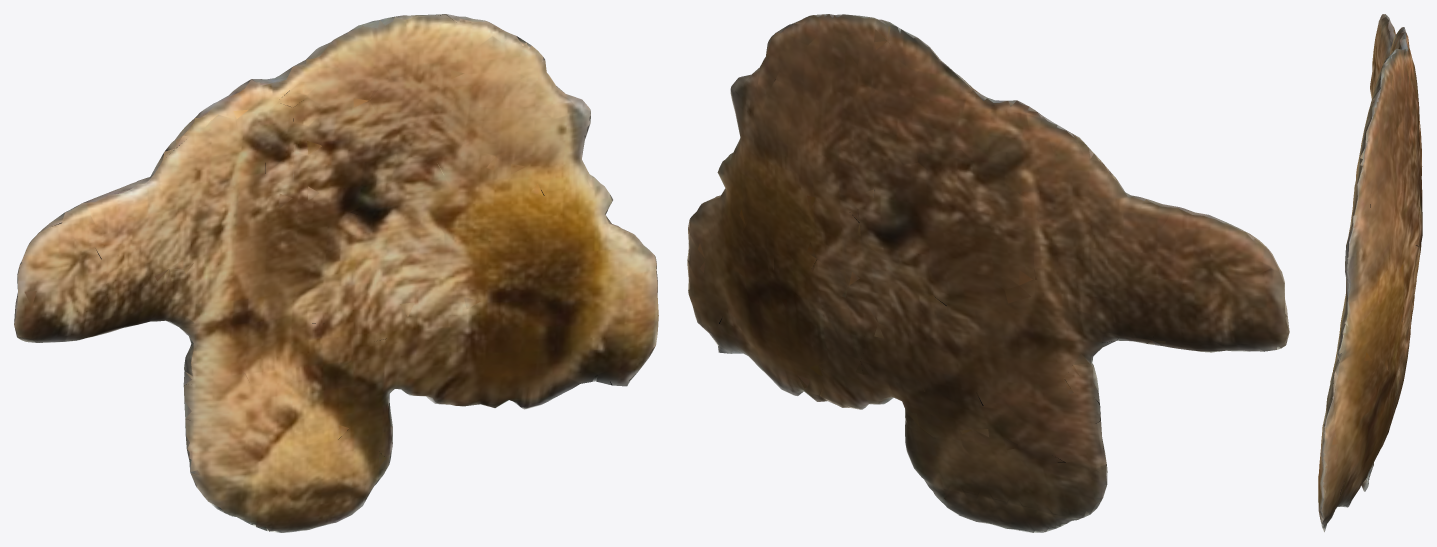
Rendered from bubby.glb.
3 renders of one model, left to right at view 1: azimuth 30°, elevation 25°; view 2: azimuth 150°, elevation 25°; view 3: azimuth 270°, elevation 25°, orthographic. The views are drawn at different scales.
Parts seen in each view (by area): view 1: world; view 2: world; view 3: world.
Part boxes in pixels (x1,y1,x2,y2): world: (14, 14, 658, 532); world: (687, 14, 1289, 532); world: (1318, 14, 1422, 532).
Size of the model in its own units: 0.9428 by 0.7016 by 0.144.
Materials: 1 (1 with a texture image).
